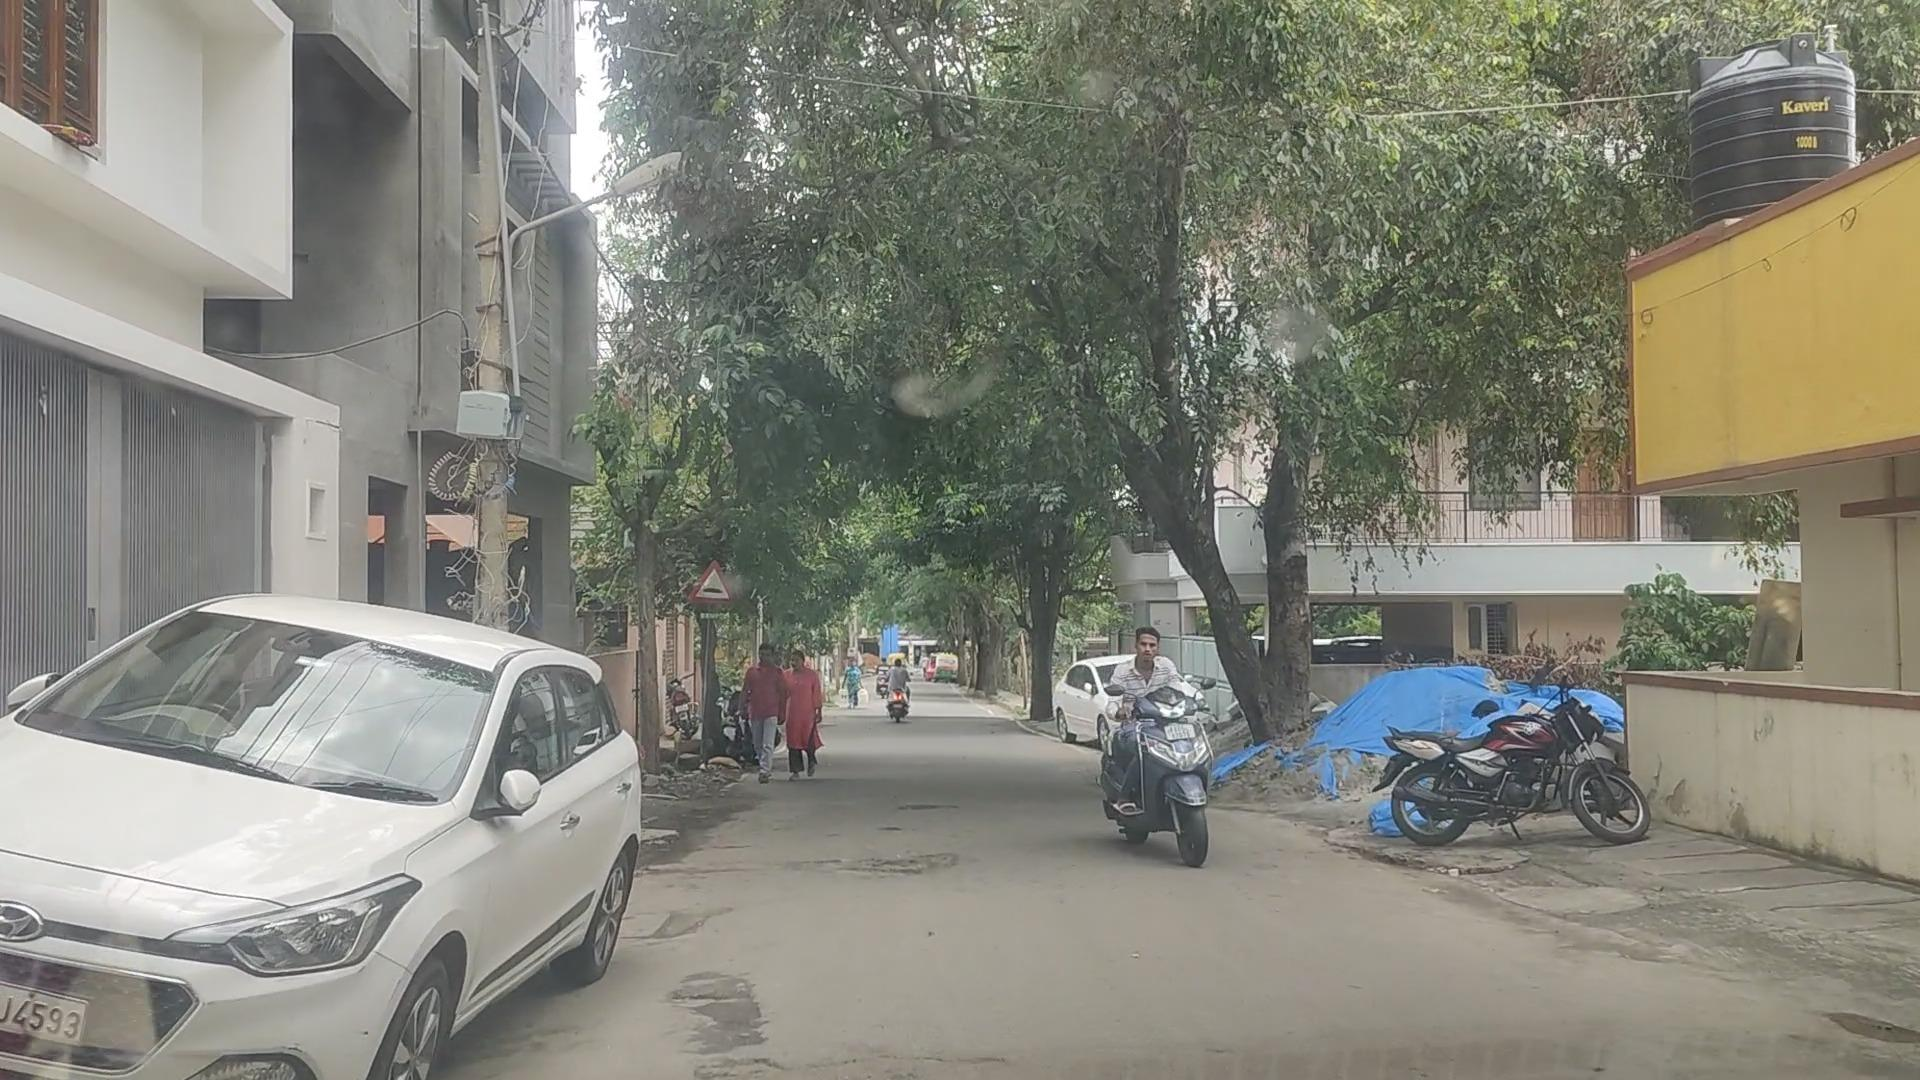LMV: (0, 621, 638, 1077), (1104, 624, 1203, 868)
RoadDamages: (669, 949, 804, 1047), (835, 844, 944, 878), (651, 897, 717, 940)
